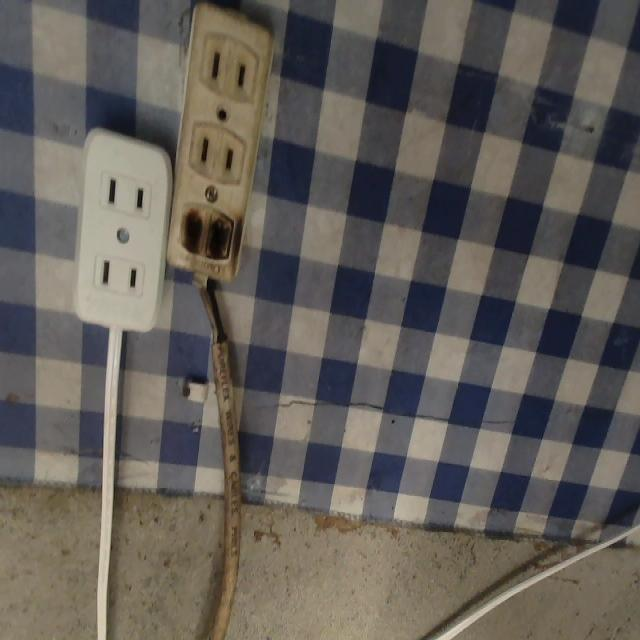-: (175, 199, 240, 272)
